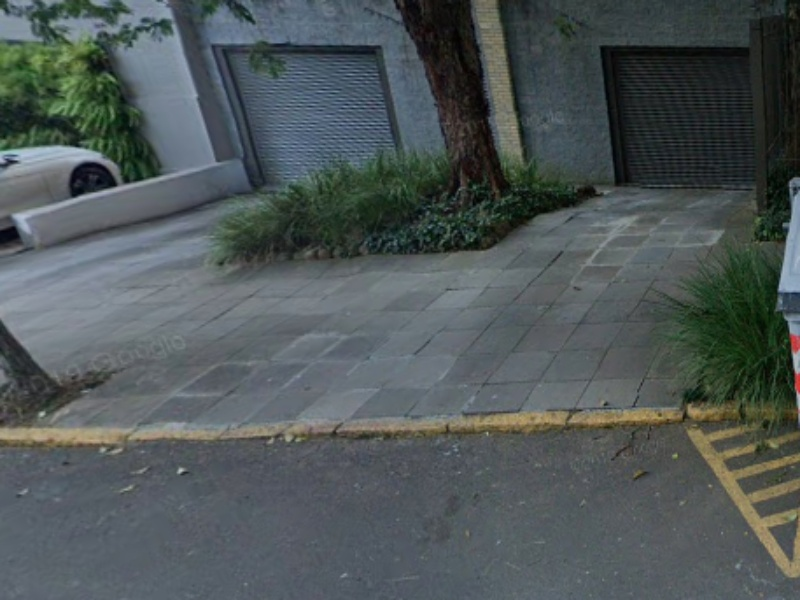g44: (70, 349, 703, 488)
